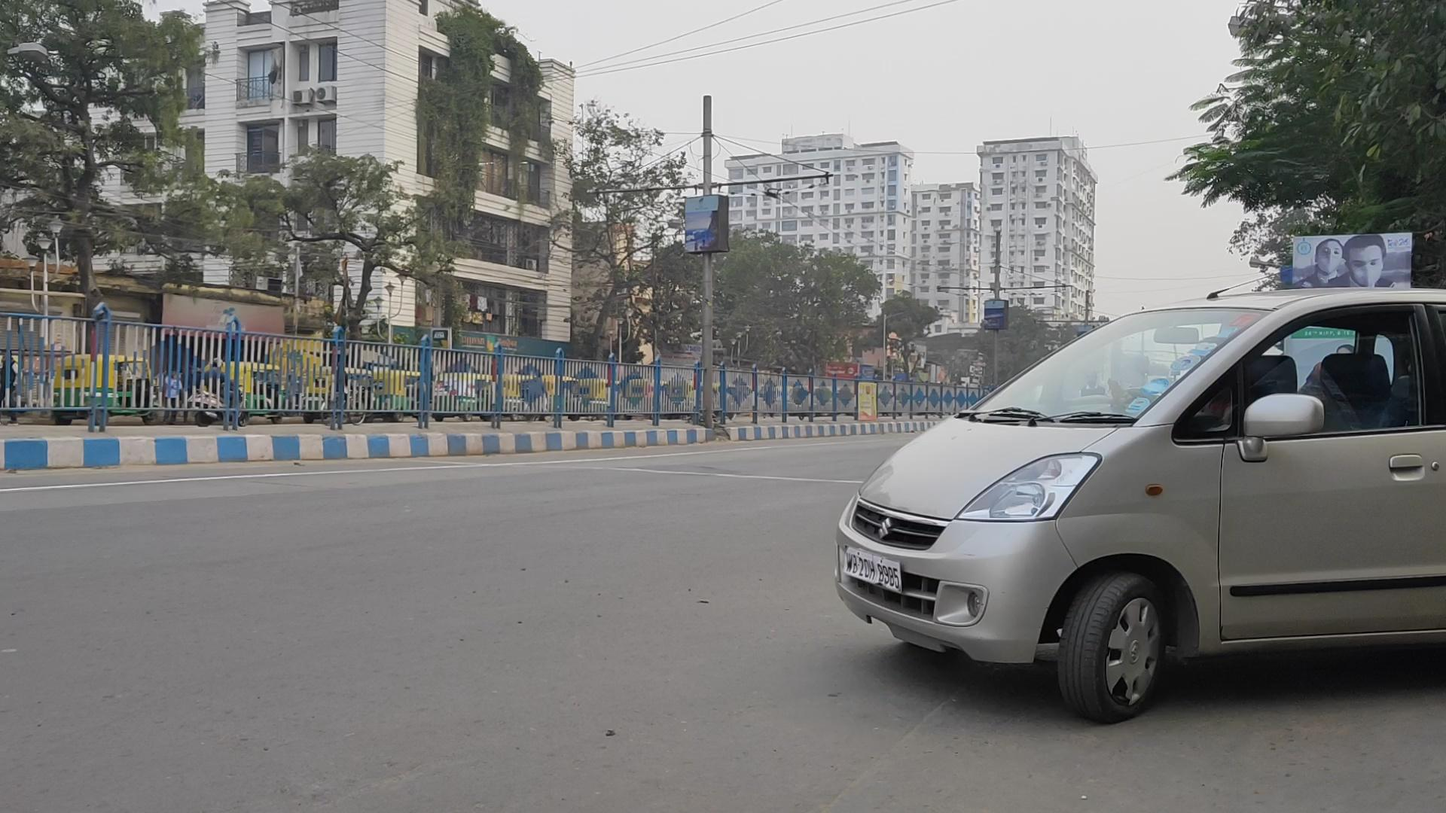car: (833, 285, 1446, 724)
